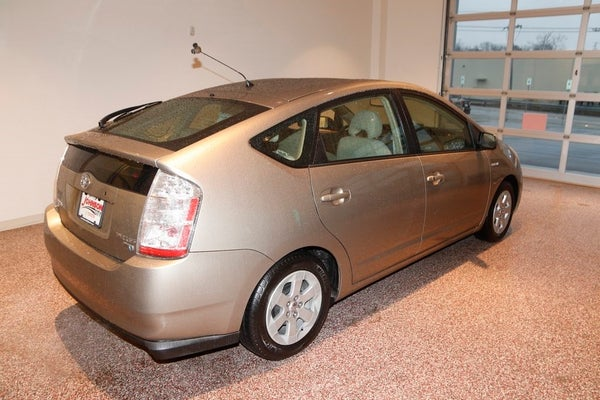Toyota Prius: (44, 78, 522, 364)
